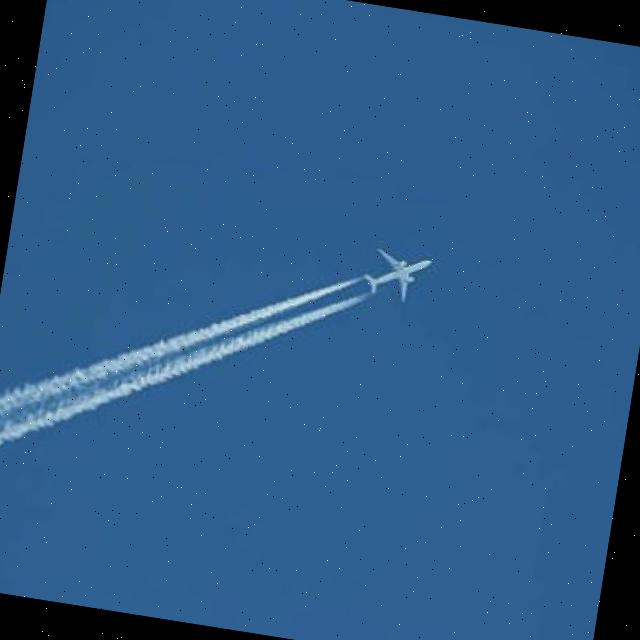Ct: (1, 183, 445, 538)
